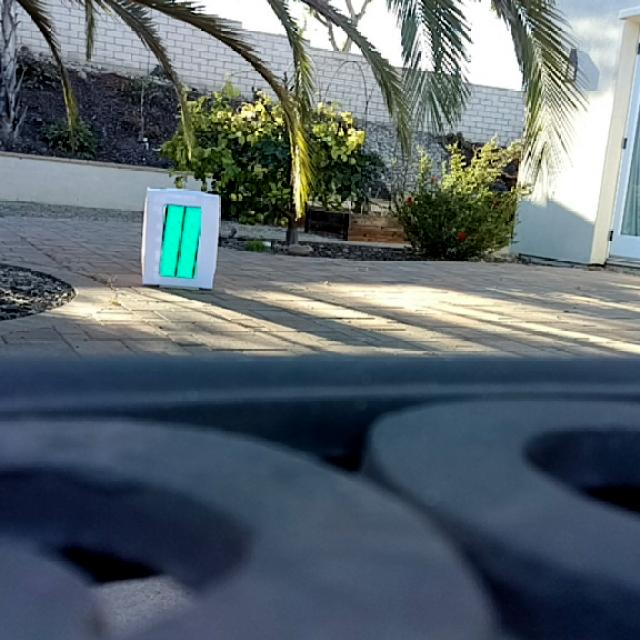led: (162, 205, 200, 279)
